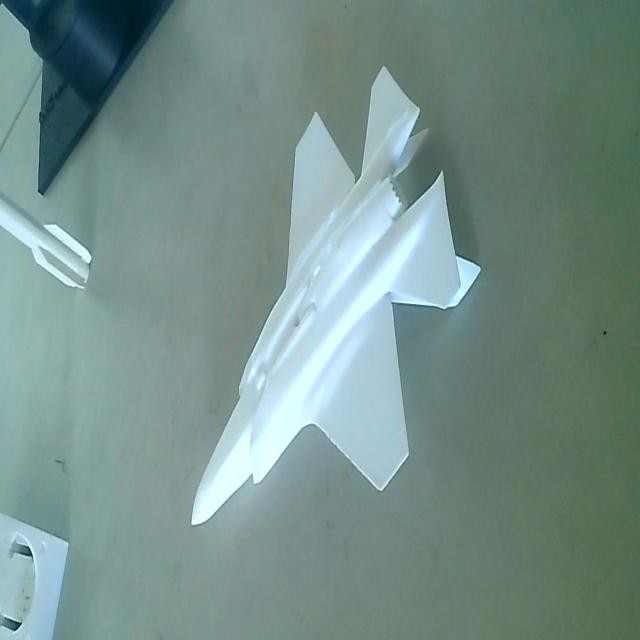Jet: (188, 58, 482, 553)
Rocket: (0, 173, 106, 310)
